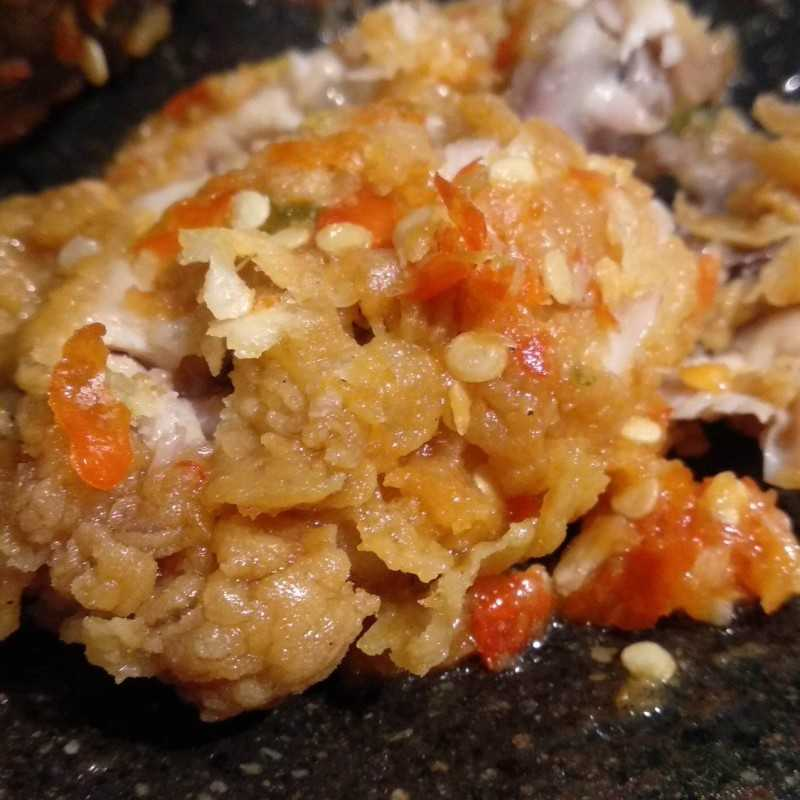ayam_geprek: (37, 44, 774, 719)
